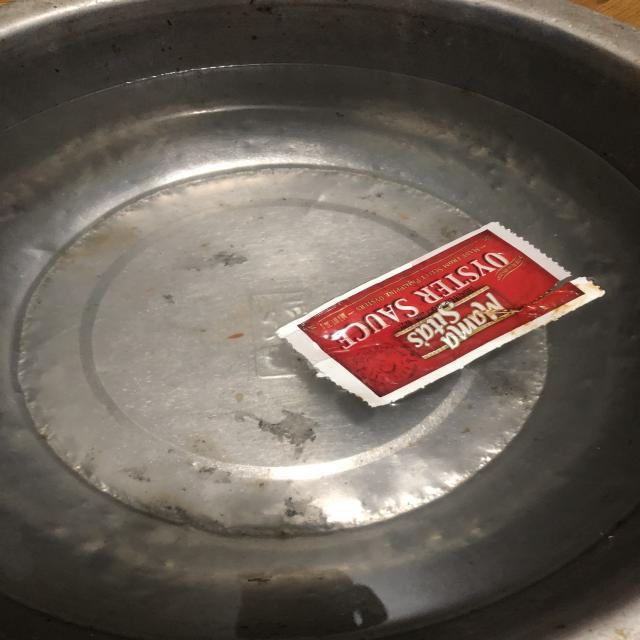Plastic Wrapper: (276, 222, 605, 407)
